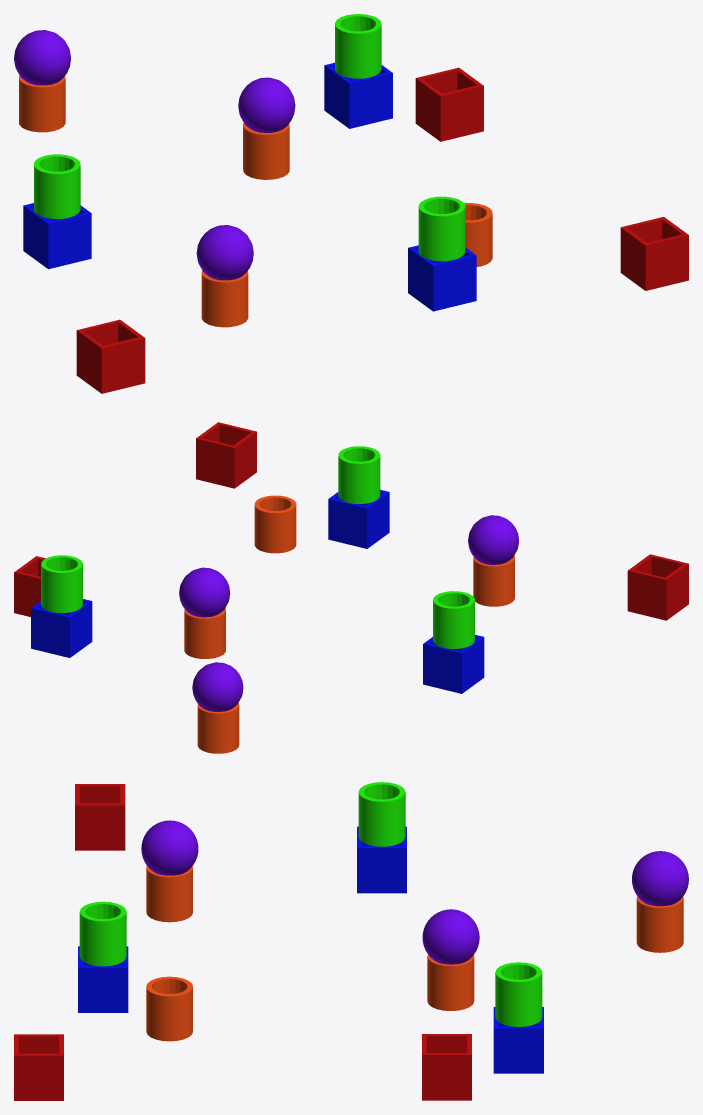
File: Obstacles_v1.2.glb
3 views of the same model, one above another, from view 1: azimuth 30°, elevation 25°; view 2: azimuth 150°, elevation 25°; view 3: azimuth 270°, elevation 25° (orthographic). The views are drawn at different scales.
Visible parts, largest first — view 1: cubeCylinder_02, cubeCylinder_03, cubeCylinder_01, cylinderCircle_01, cylinderCircle_03, cylinderCircle_02, cube_04, cube_03, cube_02, cylinder_01; view 2: cubeCylinder_02, cubeCylinder_03, cubeCylinder_01, cylinderCircle_02, cylinderCircle_01, cylinderCircle_03, cube_04, cube_02, cylinder_01, cube_03; view 3: cubeCylinder_01, cubeCylinder_02, cubeCylinder_03, cylinderCircle_02, cylinderCircle_03, cylinderCircle_01, cube_04, cube_02, cube_03, cylinder_01.
Part boxes in pixels (x1,y1,x2,y2): cubeCylinder_02: [408, 196, 476, 311]; cubeCylinder_03: [23, 154, 91, 269]; cubeCylinder_01: [324, 14, 392, 128]; cylinderCircle_01: [196, 225, 253, 327]; cylinderCircle_03: [238, 77, 295, 179]; cylinderCircle_02: [14, 30, 70, 132]; cube_04: [76, 319, 145, 393]; cube_03: [415, 67, 483, 141]; cube_02: [620, 217, 688, 290]; cylinder_01: [464, 203, 492, 266]; cubeCylinder_02: [328, 446, 389, 548]; cubeCylinder_03: [423, 591, 484, 693]; cubeCylinder_01: [31, 555, 92, 657]; cylinderCircle_02: [192, 662, 243, 753]; cylinderCircle_01: [468, 515, 518, 606]; cylinderCircle_03: [179, 567, 230, 658]; cube_04: [627, 554, 688, 620]; cube_02: [196, 422, 256, 488]; cylinder_01: [254, 495, 296, 553]; cube_03: [14, 556, 45, 616]; cubeCylinder_01: [493, 962, 543, 1073]; cubeCylinder_02: [78, 901, 128, 1012]; cubeCylinder_03: [357, 782, 406, 893]; cylinderCircle_02: [632, 851, 688, 952]; cylinderCircle_03: [422, 909, 479, 1010]; cylinderCircle_01: [141, 820, 198, 922]; cube_04: [75, 784, 125, 850]; cube_02: [14, 1034, 63, 1100]; cube_03: [422, 1034, 471, 1100]; cylinder_01: [146, 976, 192, 1041].
Size of the model in its own units: 1.11 by 0.1735 by 1.17.
Materials: 16 (16 with a texture image).
